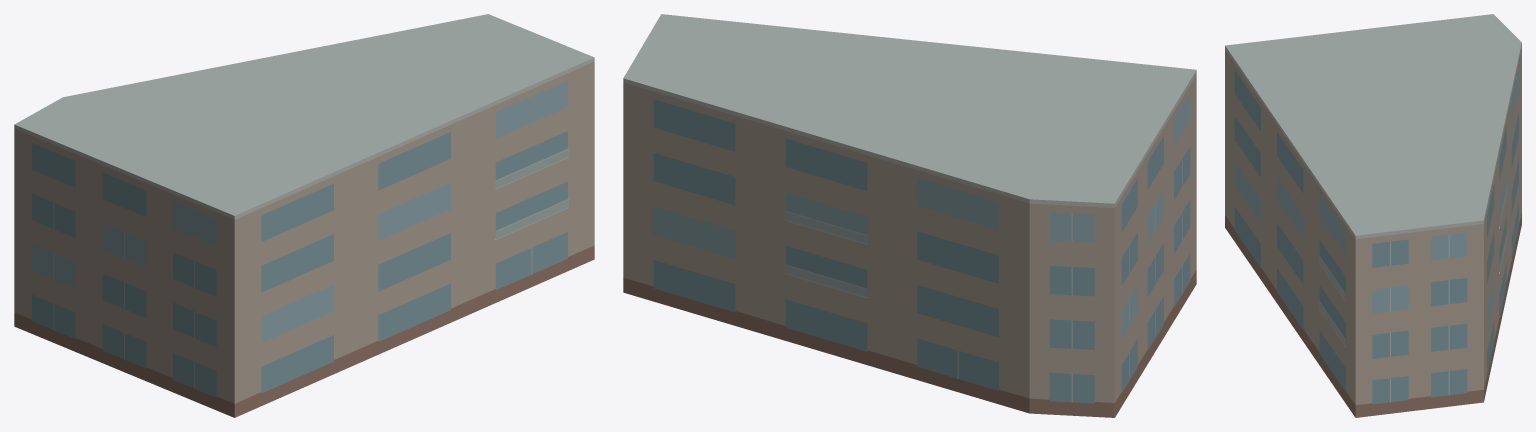
Rendered from survey-upis-32961751.glb.
3 views of the same model, side by side, from view 1: azimuth 30°, elevation 25°; view 2: azimuth 150°, elevation 25°; view 3: azimuth 270°, elevation 25° (orthographic). The views are drawn at different scales.
Parts seen in each view (by area): view 1: survey-upis-32961751.tmp; view 2: survey-upis-32961751.tmp; view 3: survey-upis-32961751.tmp.
Part boxes in pixels (<box>): survey-upis-32961751.tmp: <box>14,14,594,417</box>; survey-upis-32961751.tmp: <box>623,14,1196,417</box>; survey-upis-32961751.tmp: <box>1225,14,1521,417</box>.
Size of the model in its own units: 32.13 by 12.3 by 18.18.
